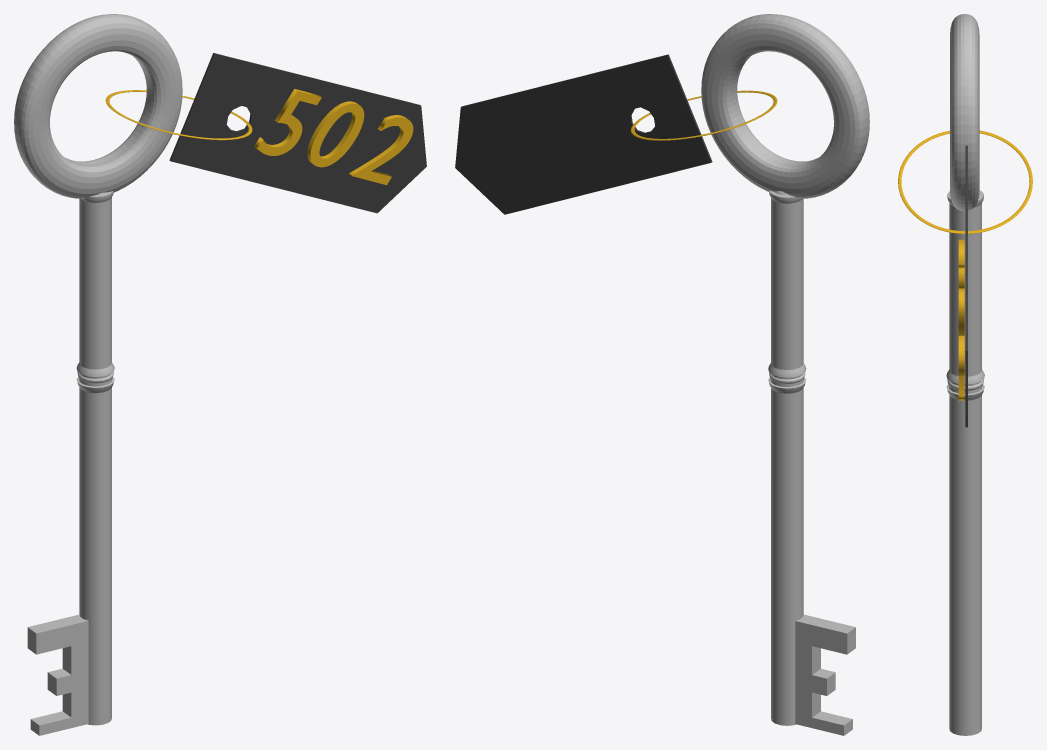
The model's file is key502.fbx.
3 views of the same model, side by side, from view 1: azimuth 30°, elevation 25°; view 2: azimuth 150°, elevation 25°; view 3: azimuth 270°, elevation 25° (orthographic).
Parts seen in each view (by area): view 1: key502; view 2: key502; view 3: key502.
Boxes of the visible parts, x1=… form: key502: x1=14, y1=14, x2=426, y2=735; key502: x1=455, y1=14, x2=869, y2=735; key502: x1=898, y1=14, x2=1032, y2=735.
Bounding box in the file's own units: 8.68 × 14.18 × 2.45.
